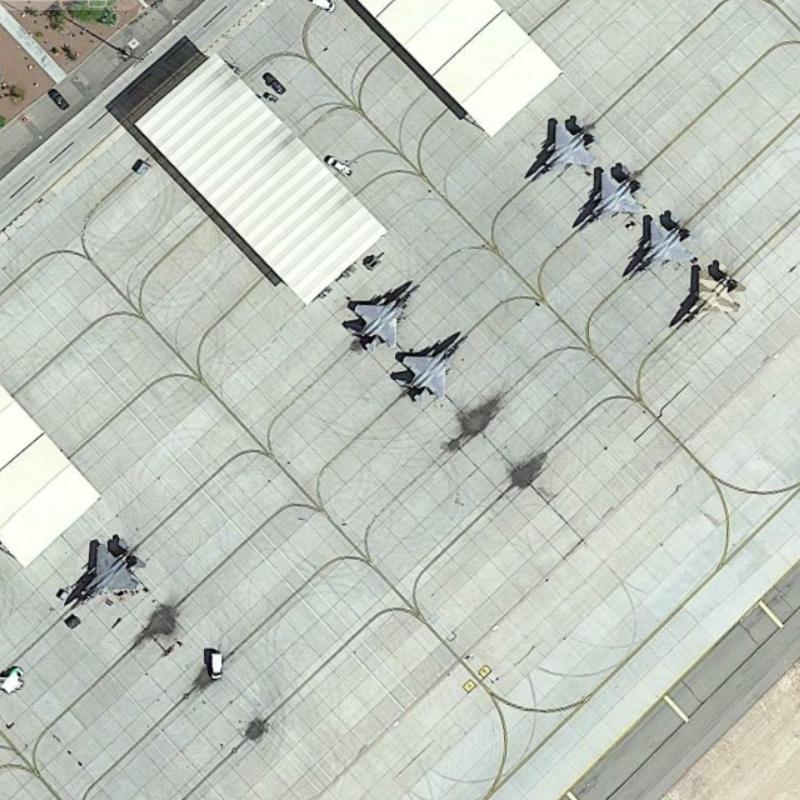A13: (661, 255, 753, 333), (63, 527, 145, 610), (515, 106, 603, 183), (620, 204, 700, 282), (342, 271, 417, 354), (393, 325, 469, 406), (570, 156, 649, 230)
